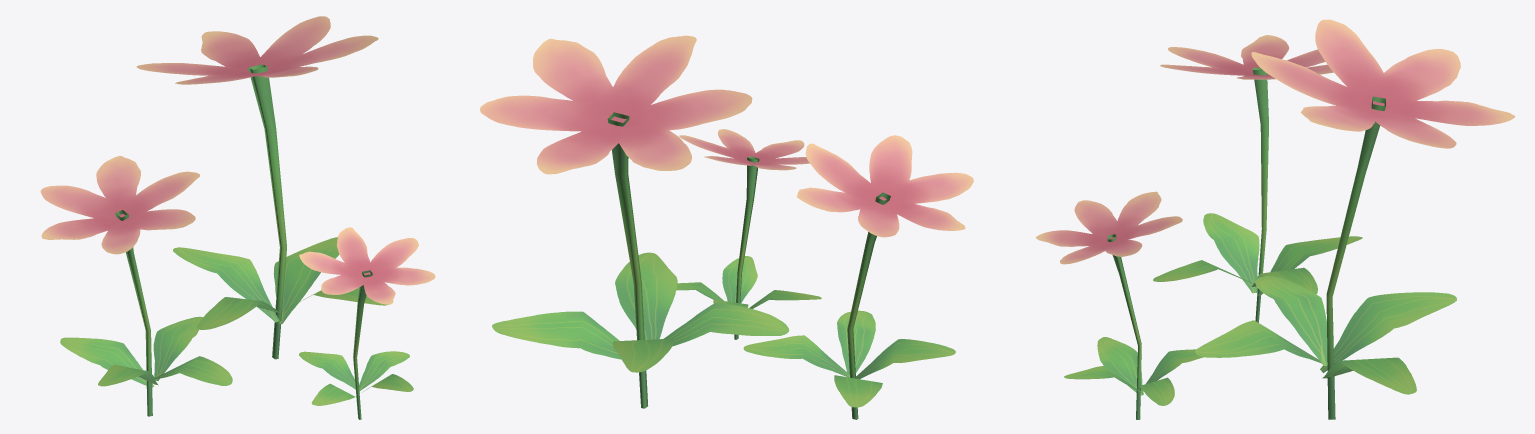
Rendered from Lys_LOD1.fbx.
3 views of the same model, side by side, from view 1: azimuth 30°, elevation 25°; view 2: azimuth 150°, elevation 25°; view 3: azimuth 270°, elevation 25° (orthographic). The views are drawn at different scales.
Parts seen in each view (by area): view 1: Ly_loin; view 2: Ly_loin; view 3: Ly_loin.
Boxes of the visible parts, box(x1,y1,x2,y2) form: Ly_loin: box(40, 16, 435, 419); Ly_loin: box(480, 35, 973, 419); Ly_loin: box(1036, 19, 1515, 419).
Bounding box in the file's own units: 7.16 × 5.4 × 6.65.
